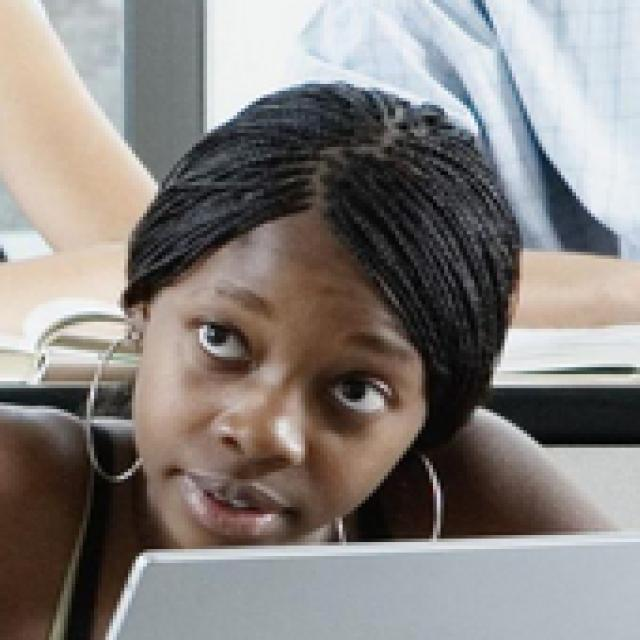Attentive: (129, 218, 433, 547)
